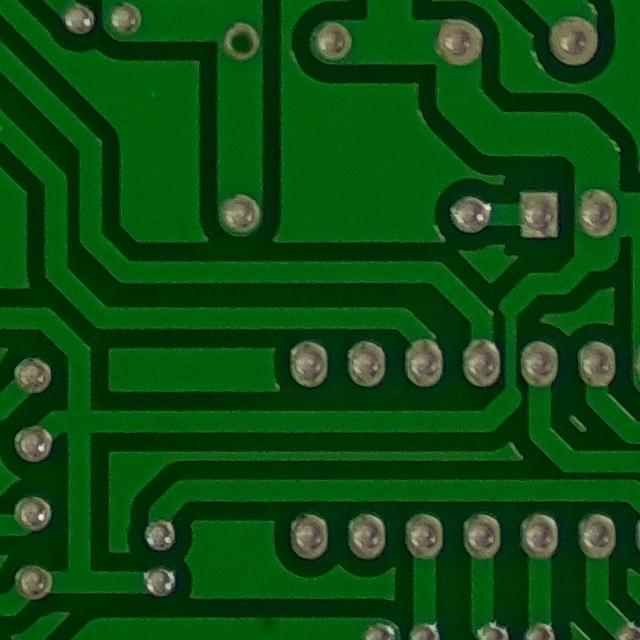missing_hole: (215, 16, 265, 69)
